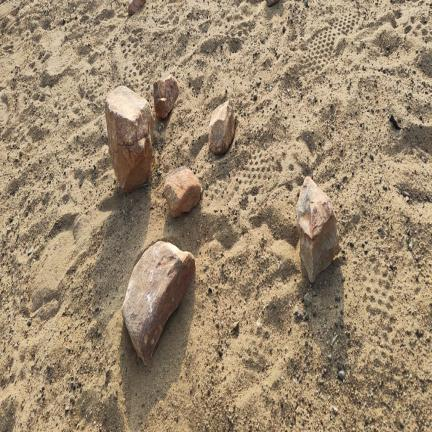Rocks: (122, 242, 195, 365), (106, 86, 153, 191), (297, 177, 339, 281), (164, 167, 201, 217), (209, 101, 234, 154), (154, 76, 178, 118), (128, 0, 145, 15), (294, 306, 303, 320), (304, 292, 312, 307), (232, 321, 239, 334), (266, 0, 279, 6), (338, 371, 345, 380), (28, 247, 34, 255)
